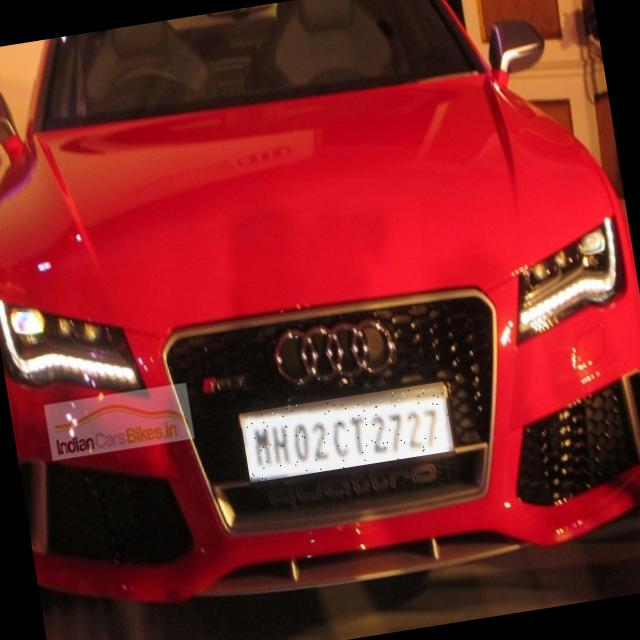Plate: (241, 383, 455, 484)
